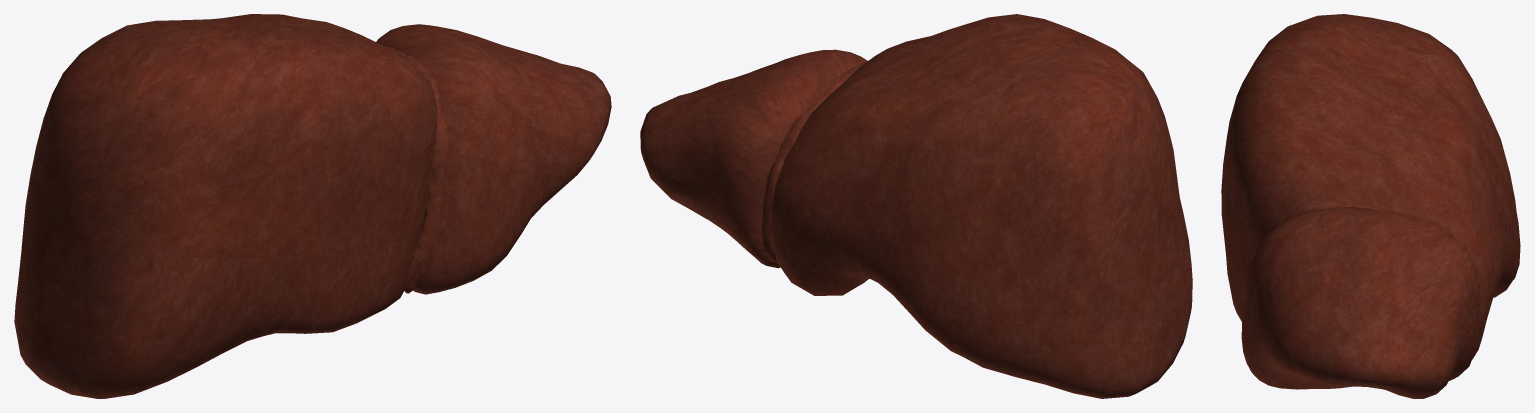
Rendered from liver-home.glb.
The picture shows the model from 3 angles, left to right: view 1: azimuth 30°, elevation 25°; view 2: azimuth 150°, elevation 25°; view 3: azimuth 270°, elevation 25°; orthographic projection. The views are drawn at different scales.
Visible parts, largest first — view 1: Liver; view 2: Liver; view 3: Liver.
Boxes of the visible parts, x1=… form: Liver: x1=14, y1=14, x2=611, y2=398; Liver: x1=640, y1=14, x2=1192, y2=398; Liver: x1=1221, y1=14, x2=1520, y2=398.
Size of the model in its own units: 2.58 by 1.44 by 1.29.
2 materials, 2 textured.
